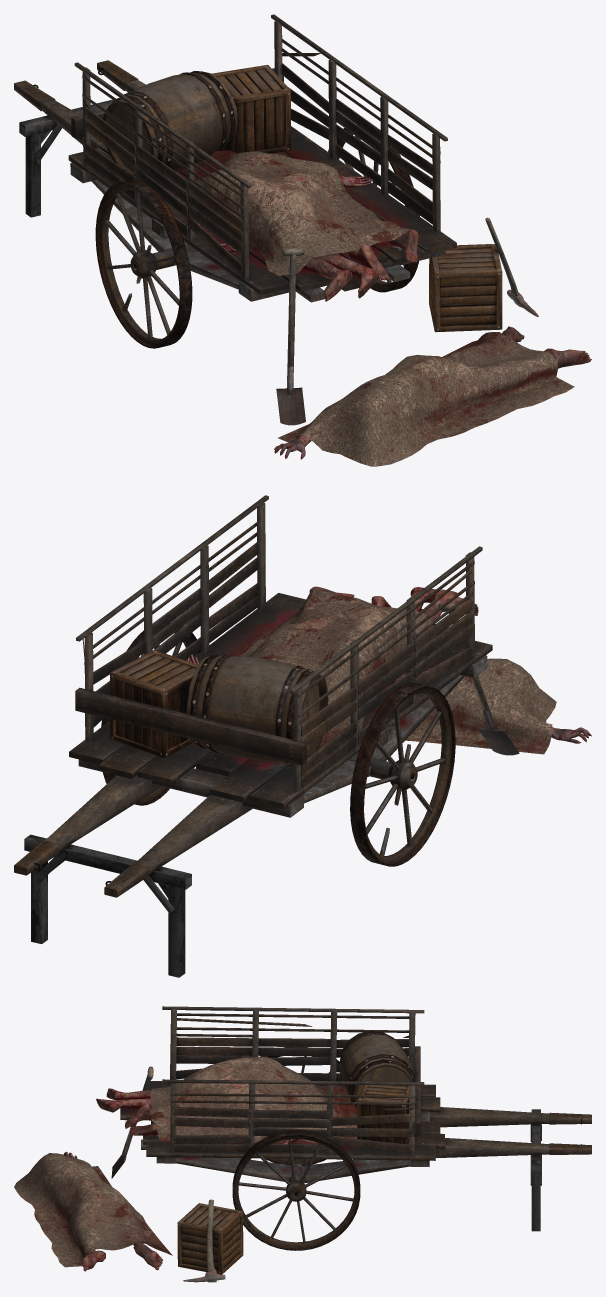
File: cart_corpse_the_darkest_red.glb
3 renders of one model, top to bottom at view 1: azimuth 30°, elevation 25°; view 2: azimuth 150°, elevation 25°; view 3: azimuth 270°, elevation 25°, orthographic. The views are drawn at different scales.
Parts seen in each view (by area): view 1: corpse_telega_other_items_0, Korpus_telega_telega_0; view 2: Korpus_telega_telega_0, corpse_telega_other_items_0; view 3: Korpus_telega_telega_0, corpse_telega_other_items_0.
Boxes of the visible parts, x1,y1,x2,y2 form: corpse_telega_other_items_0: (103, 65, 591, 466); Korpus_telega_telega_0: (14, 14, 456, 348); Korpus_telega_telega_0: (14, 495, 492, 977); corpse_telega_other_items_0: (110, 586, 591, 763); Korpus_telega_telega_0: (120, 1006, 591, 1250); corpse_telega_other_items_0: (14, 1030, 414, 1282).
Size of the model in its own units: 266 by 163 by 516.
2 materials, 2 textured.
